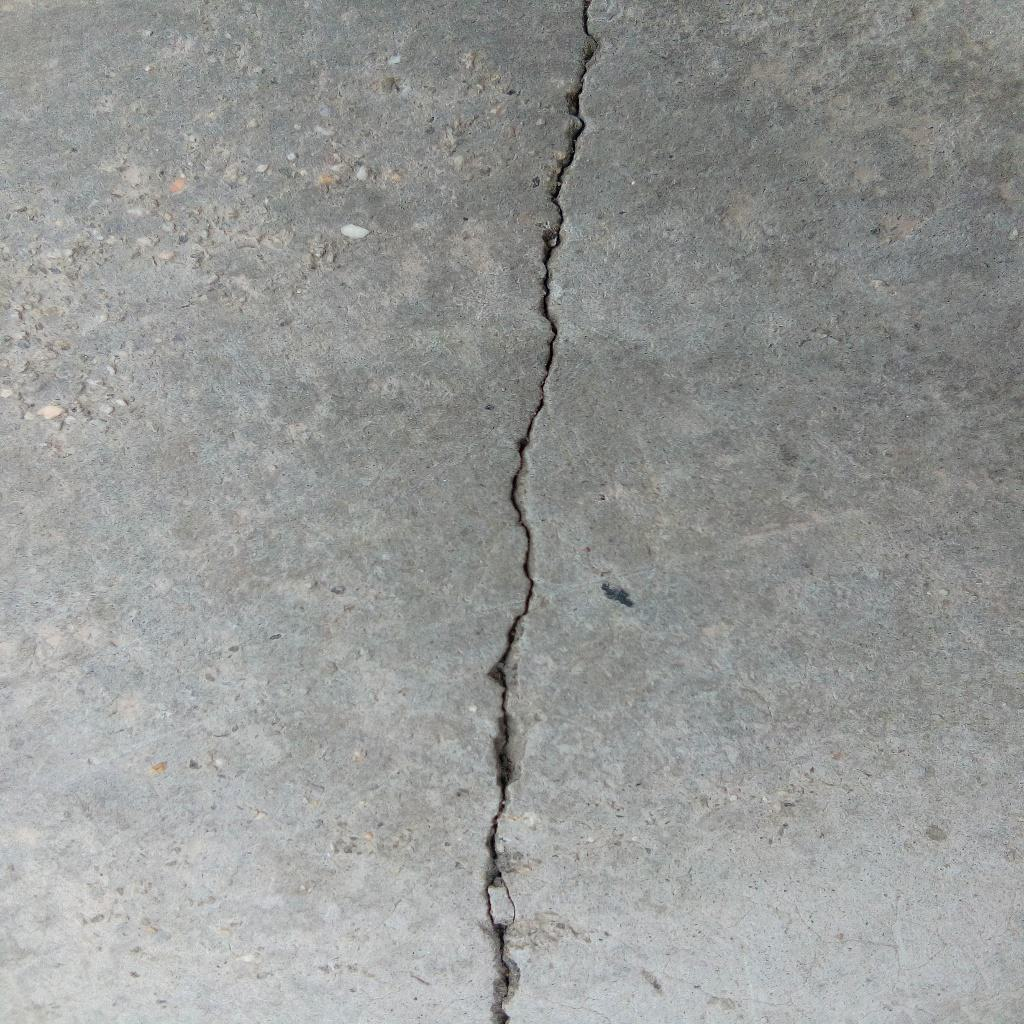Crack: (482, 1, 600, 1024)
